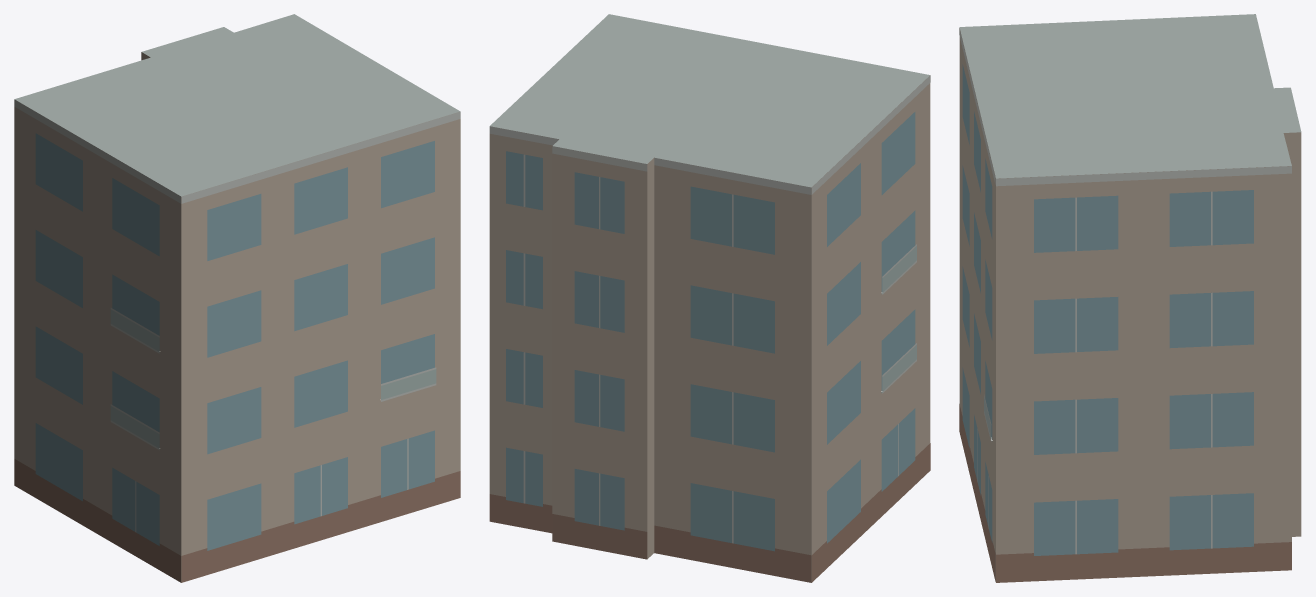
Rendered from survey-upis-32999350.glb.
The picture shows the model from 3 angles, left to right: view 1: azimuth 30°, elevation 25°; view 2: azimuth 150°, elevation 25°; view 3: azimuth 270°, elevation 25°; orthographic projection. The views are drawn at different scales.
Parts seen in each view (by area): view 1: survey-upis-32999350.tmp; view 2: survey-upis-32999350.tmp; view 3: survey-upis-32999350.tmp.
Boxes of the visible parts, box(x1,y1,x2,y2) form: survey-upis-32999350.tmp: box(14, 14, 460, 582); survey-upis-32999350.tmp: box(489, 14, 930, 582); survey-upis-32999350.tmp: box(959, 14, 1301, 582).
Bounding box in the file's own units: 11.23 × 12.85 × 9.86.
